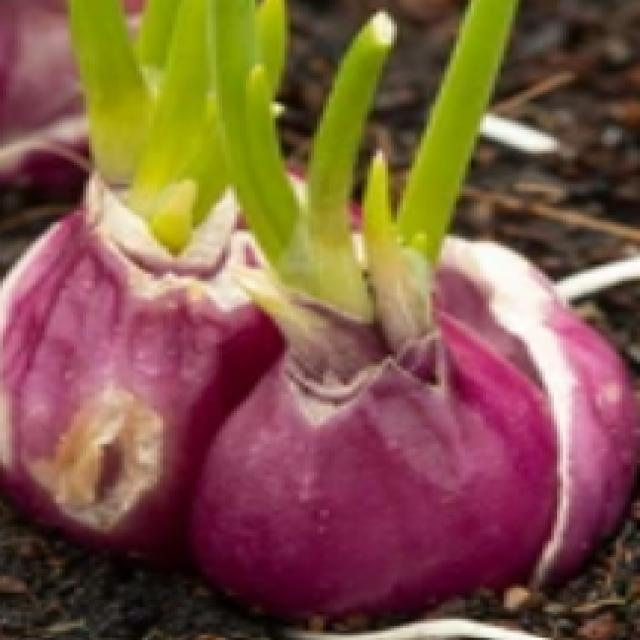sprouting: (54, 23, 448, 336)
